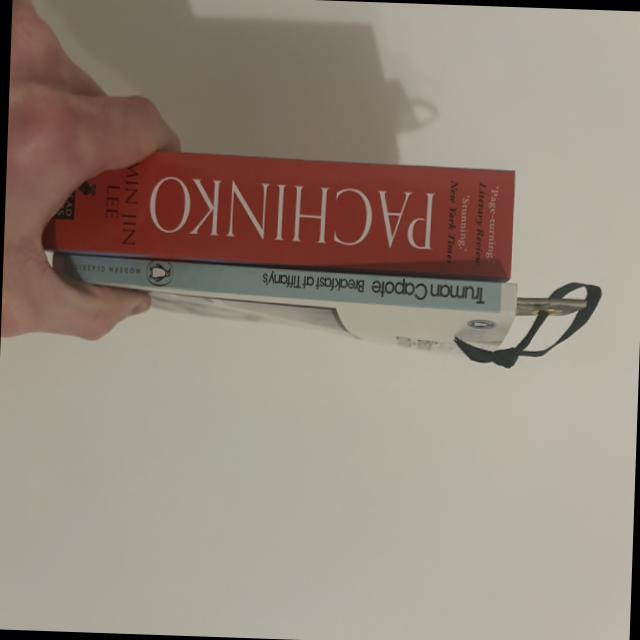book: (41, 144, 515, 282), (49, 252, 519, 356)
